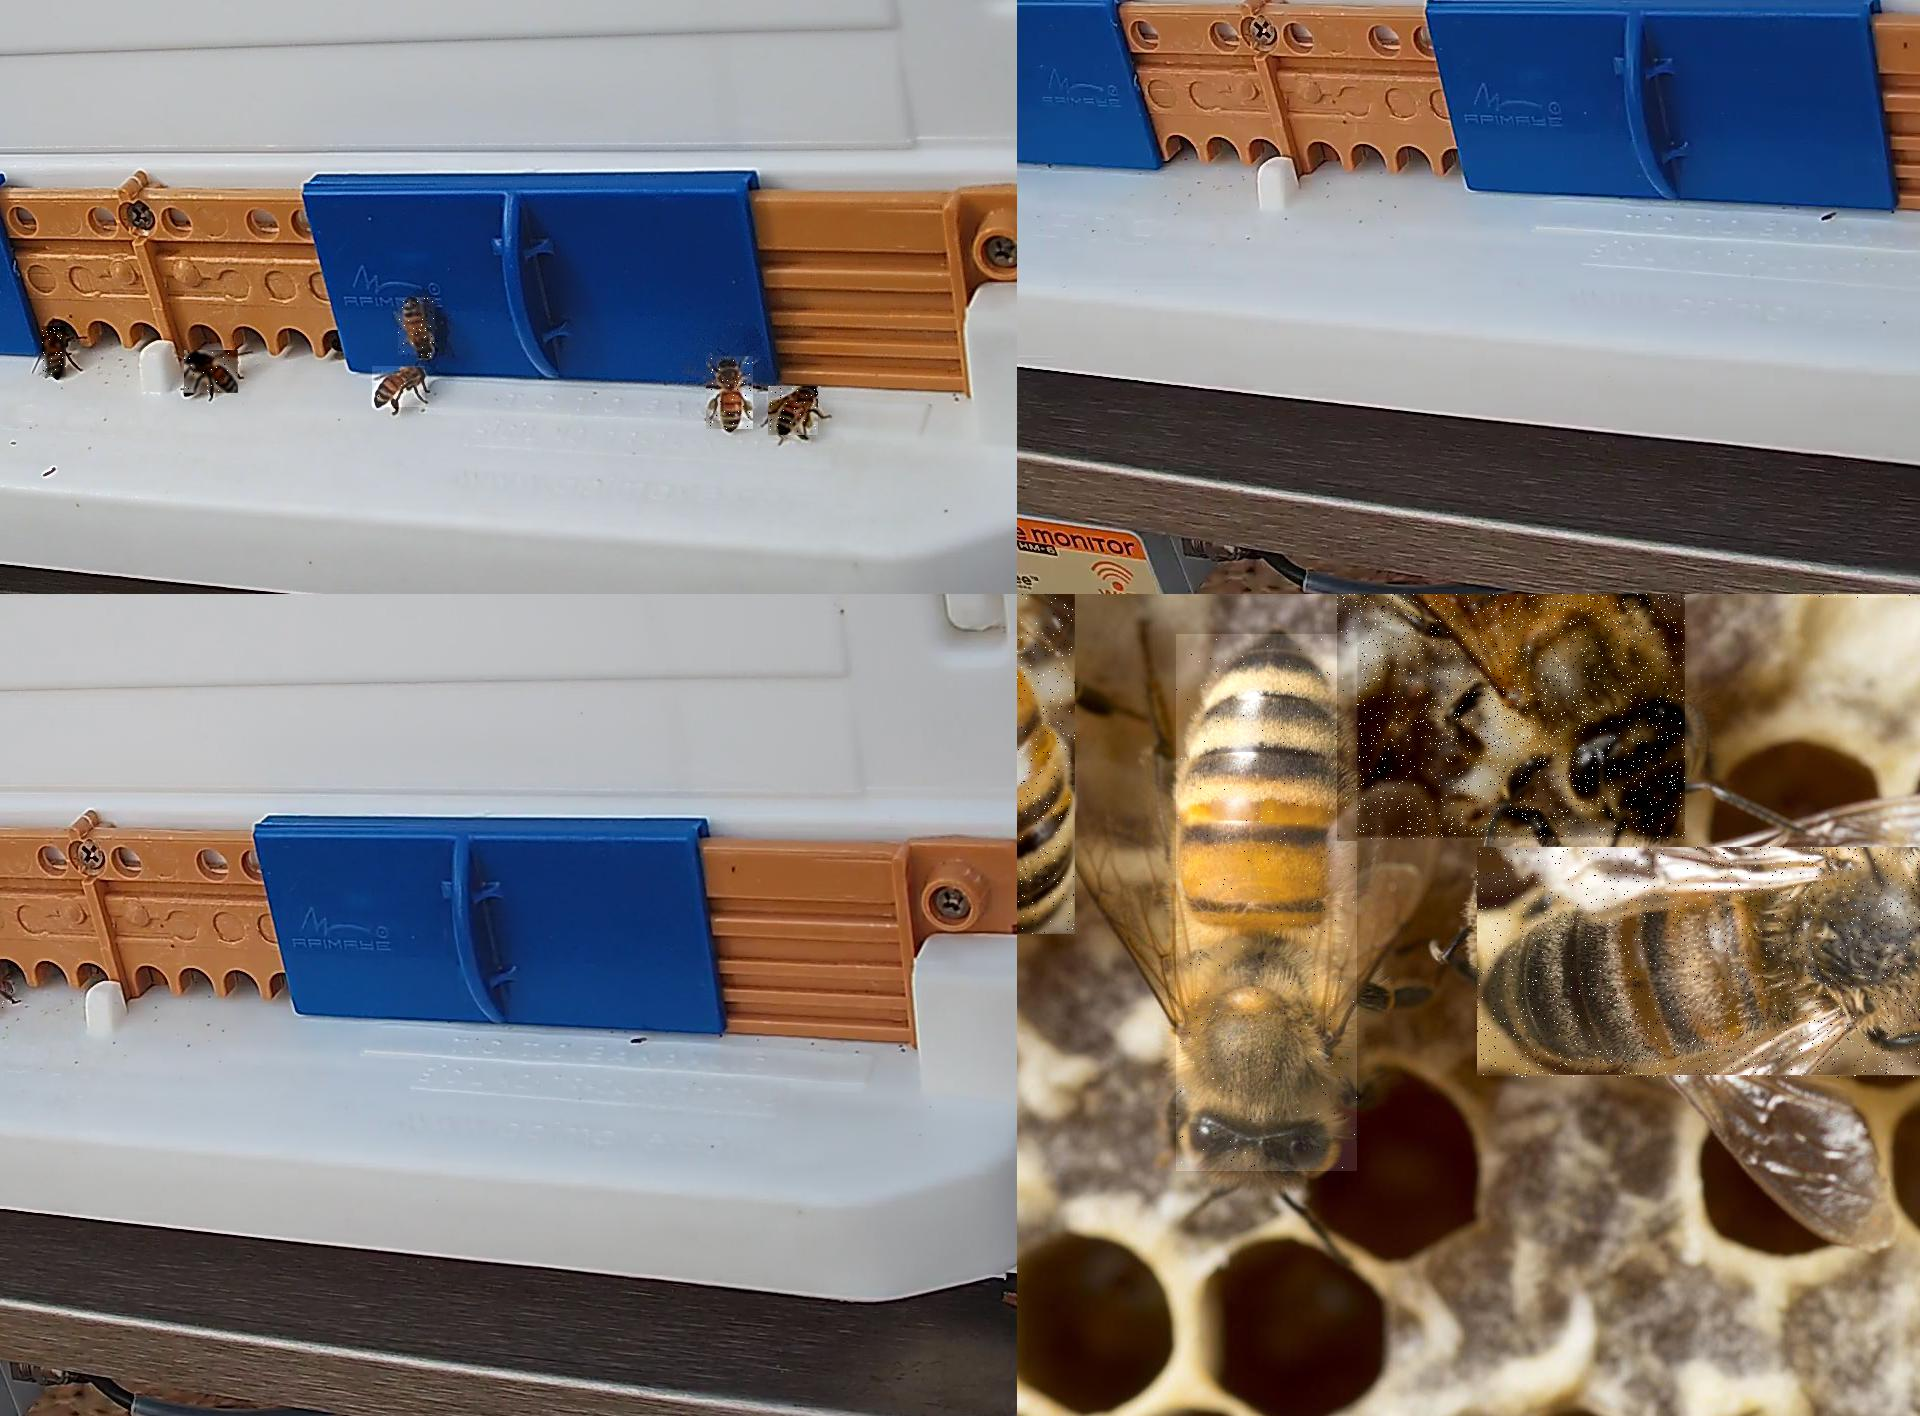bee: (1477, 847, 1919, 1081), (1176, 635, 1358, 1172), (1337, 595, 1687, 841), (183, 350, 239, 393), (398, 298, 437, 359), (373, 367, 426, 408), (42, 326, 67, 379), (0, 979, 13, 1011)
pollenbee: (707, 356, 754, 431), (769, 386, 823, 440)
